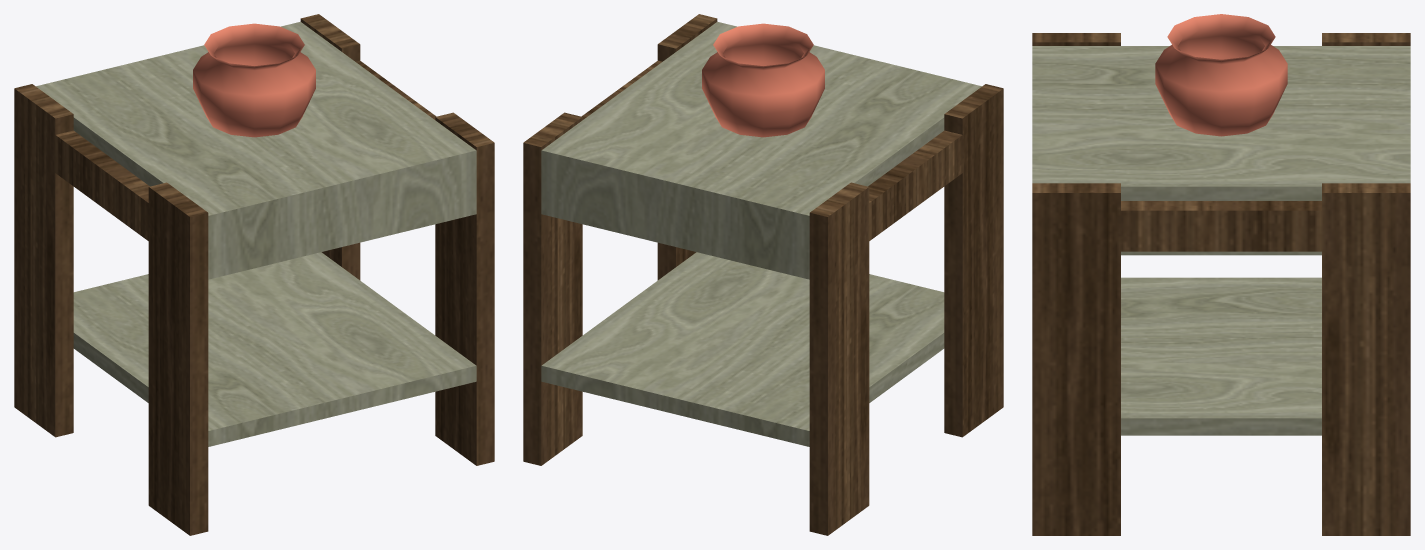
File: bedside_table.glb
The picture shows the model from 3 angles, left to right: view 1: azimuth 30°, elevation 25°; view 2: azimuth 150°, elevation 25°; view 3: azimuth 270°, elevation 25°; orthographic projection. The views are drawn at different scales.
Visible parts, largest first — view 1: BedsideTable; view 2: BedsideTable; view 3: BedsideTable.
Boxes of the visible parts, box(x1,y1,x2,y2) form: BedsideTable: box(14, 14, 494, 535); BedsideTable: box(523, 14, 1003, 535); BedsideTable: box(1032, 14, 1410, 535).
Bounding box in the file's own units: 1 × 1.22 × 1.
Materials: 4 (3 with a texture image).
